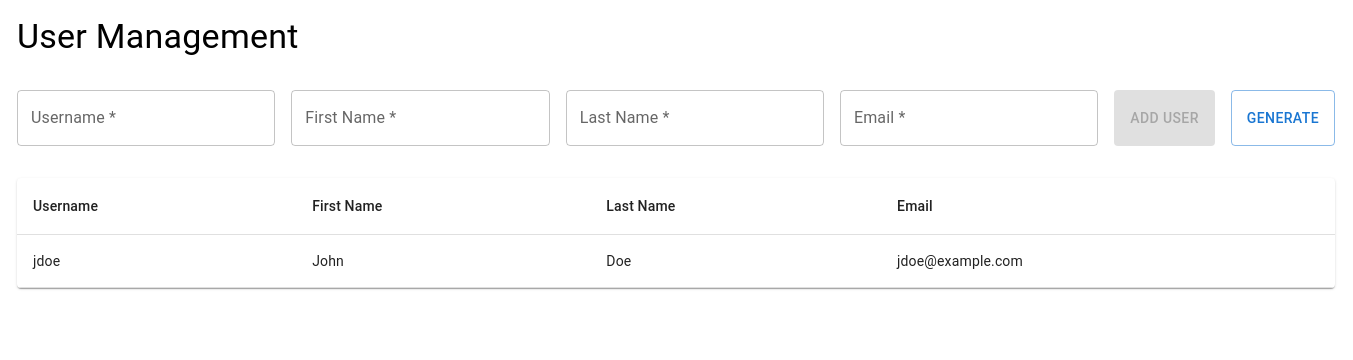
Test case: User Management App › should add a user manually
In the field named "username": (146, 118) [17,90,275,146], type "newuser"
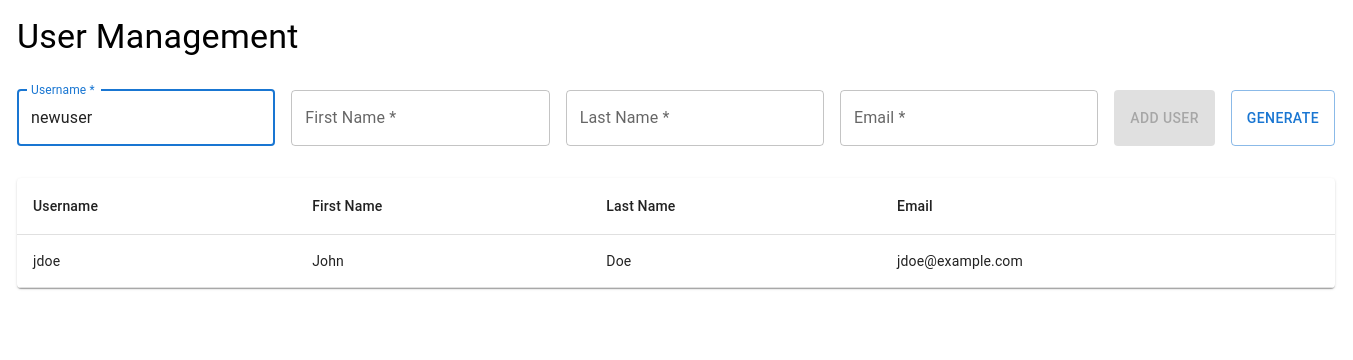
In the field named "firstName": (420, 118) [291,90,549,146], type "New"
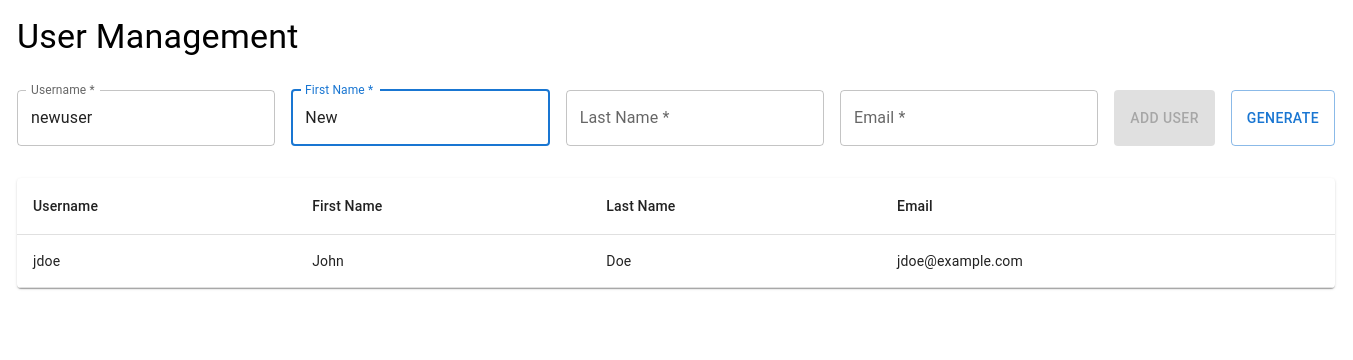
In the field named "lastName": (695, 118) [566,90,824,146], type "User"
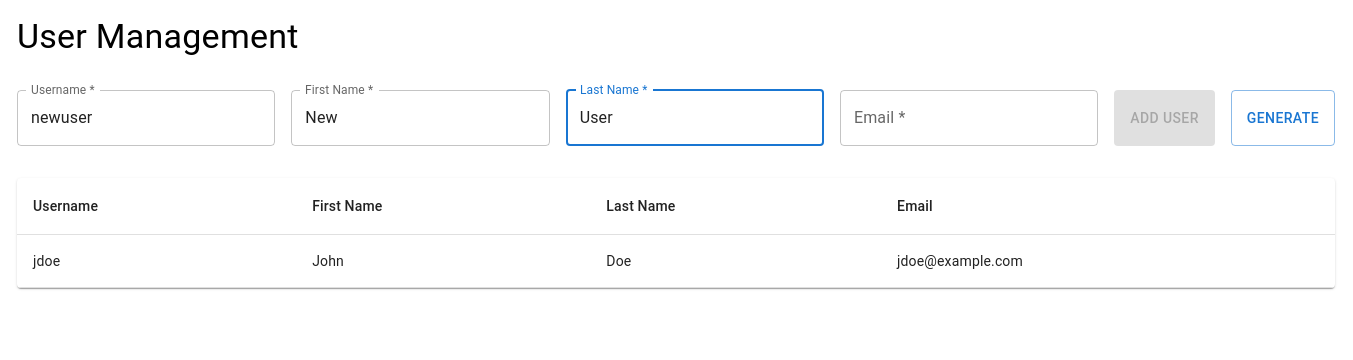
In the field named "email": (969, 118) [840,90,1098,146], type "newuser@example.com"
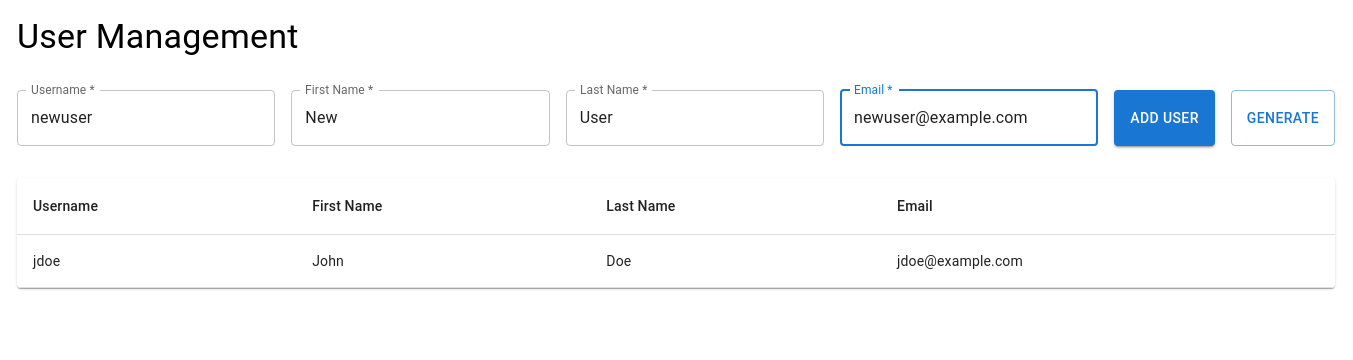
Click the submit button: click(1165, 118) [1114,90,1215,146]
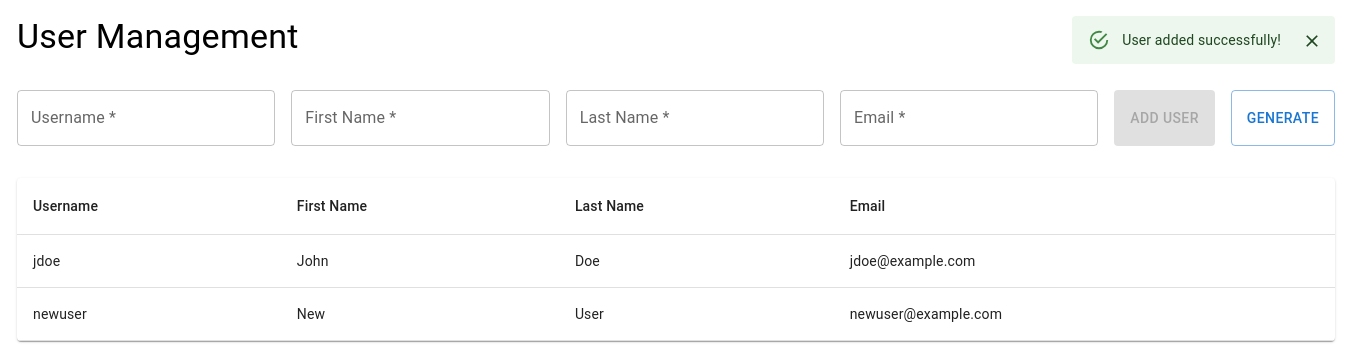
Result: the text "newuser" is shown at [17,288,281,340]
